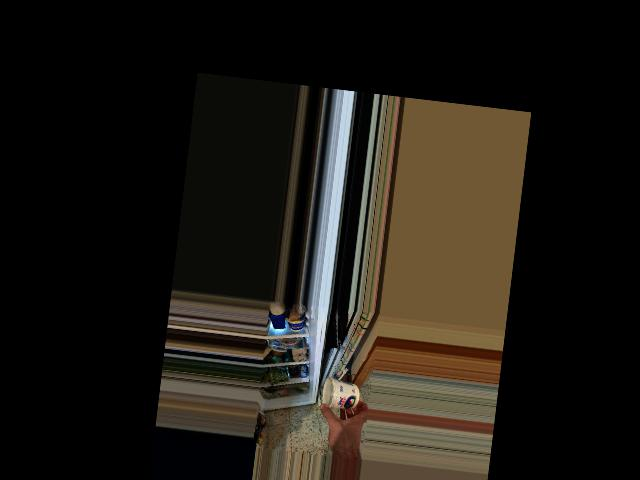cotage: (322, 375, 364, 411)
